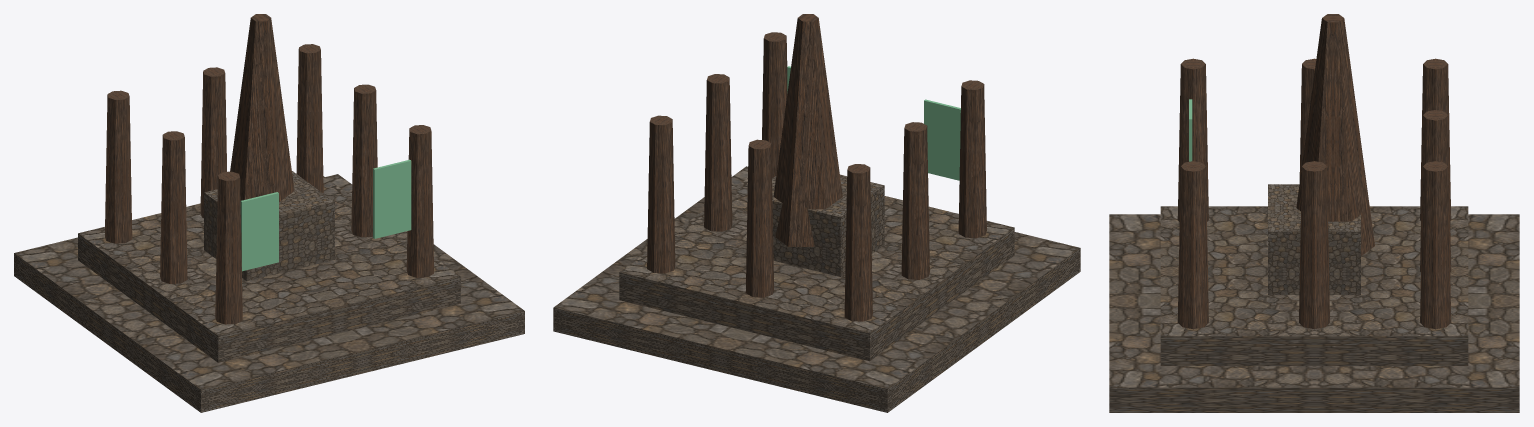
Rendered from edificio-b_020-e0-DsNboSK9.glb.
3 views of the same model, side by side, from view 1: azimuth 30°, elevation 25°; view 2: azimuth 150°, elevation 25°; view 3: azimuth 270°, elevation 25° (orthographic). The views are drawn at different scales.
Visible parts, largest first — view 1: edificio-b_020-e0_envolvente, edificio-b_020-e0_detalles, edificio-b_020-e0_team_color; view 2: edificio-b_020-e0_envolvente, edificio-b_020-e0_detalles, edificio-b_020-e0_team_color; view 3: edificio-b_020-e0_envolvente, edificio-b_020-e0_detalles.
Boxes of the visible parts, x1,y1,x2,y2 form: edificio-b_020-e0_envolvente: (14, 44, 524, 412); edificio-b_020-e0_detalles: (78, 14, 460, 362); edificio-b_020-e0_team_color: (240, 159, 411, 271); edificio-b_020-e0_envolvente: (553, 32, 1080, 412); edificio-b_020-e0_detalles: (619, 14, 1014, 361); edificio-b_020-e0_team_color: (787, 66, 960, 180); edificio-b_020-e0_envolvente: (1109, 58, 1519, 412); edificio-b_020-e0_detalles: (1160, 14, 1468, 365).
Bounding box in the file's own units: 44 × 36.5 × 44.
3 materials, 2 textured.
